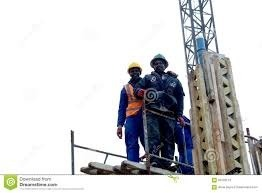helmet: (124, 59, 145, 78), (149, 52, 171, 70)
person with full safety: (116, 60, 149, 161)
person with partial safety: (146, 54, 186, 170)
safety vest: (123, 82, 143, 116)
